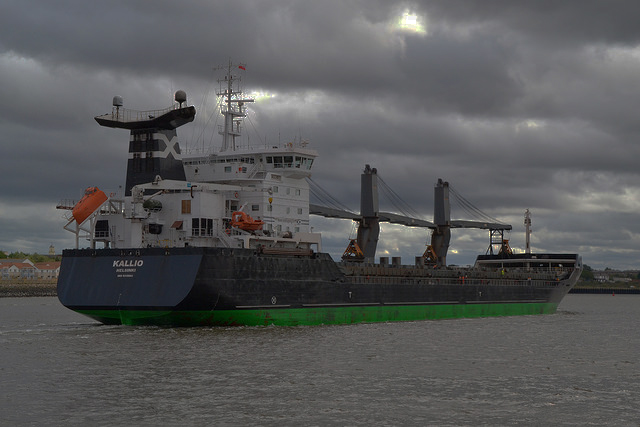bulk carrier: (56, 63, 587, 326)
